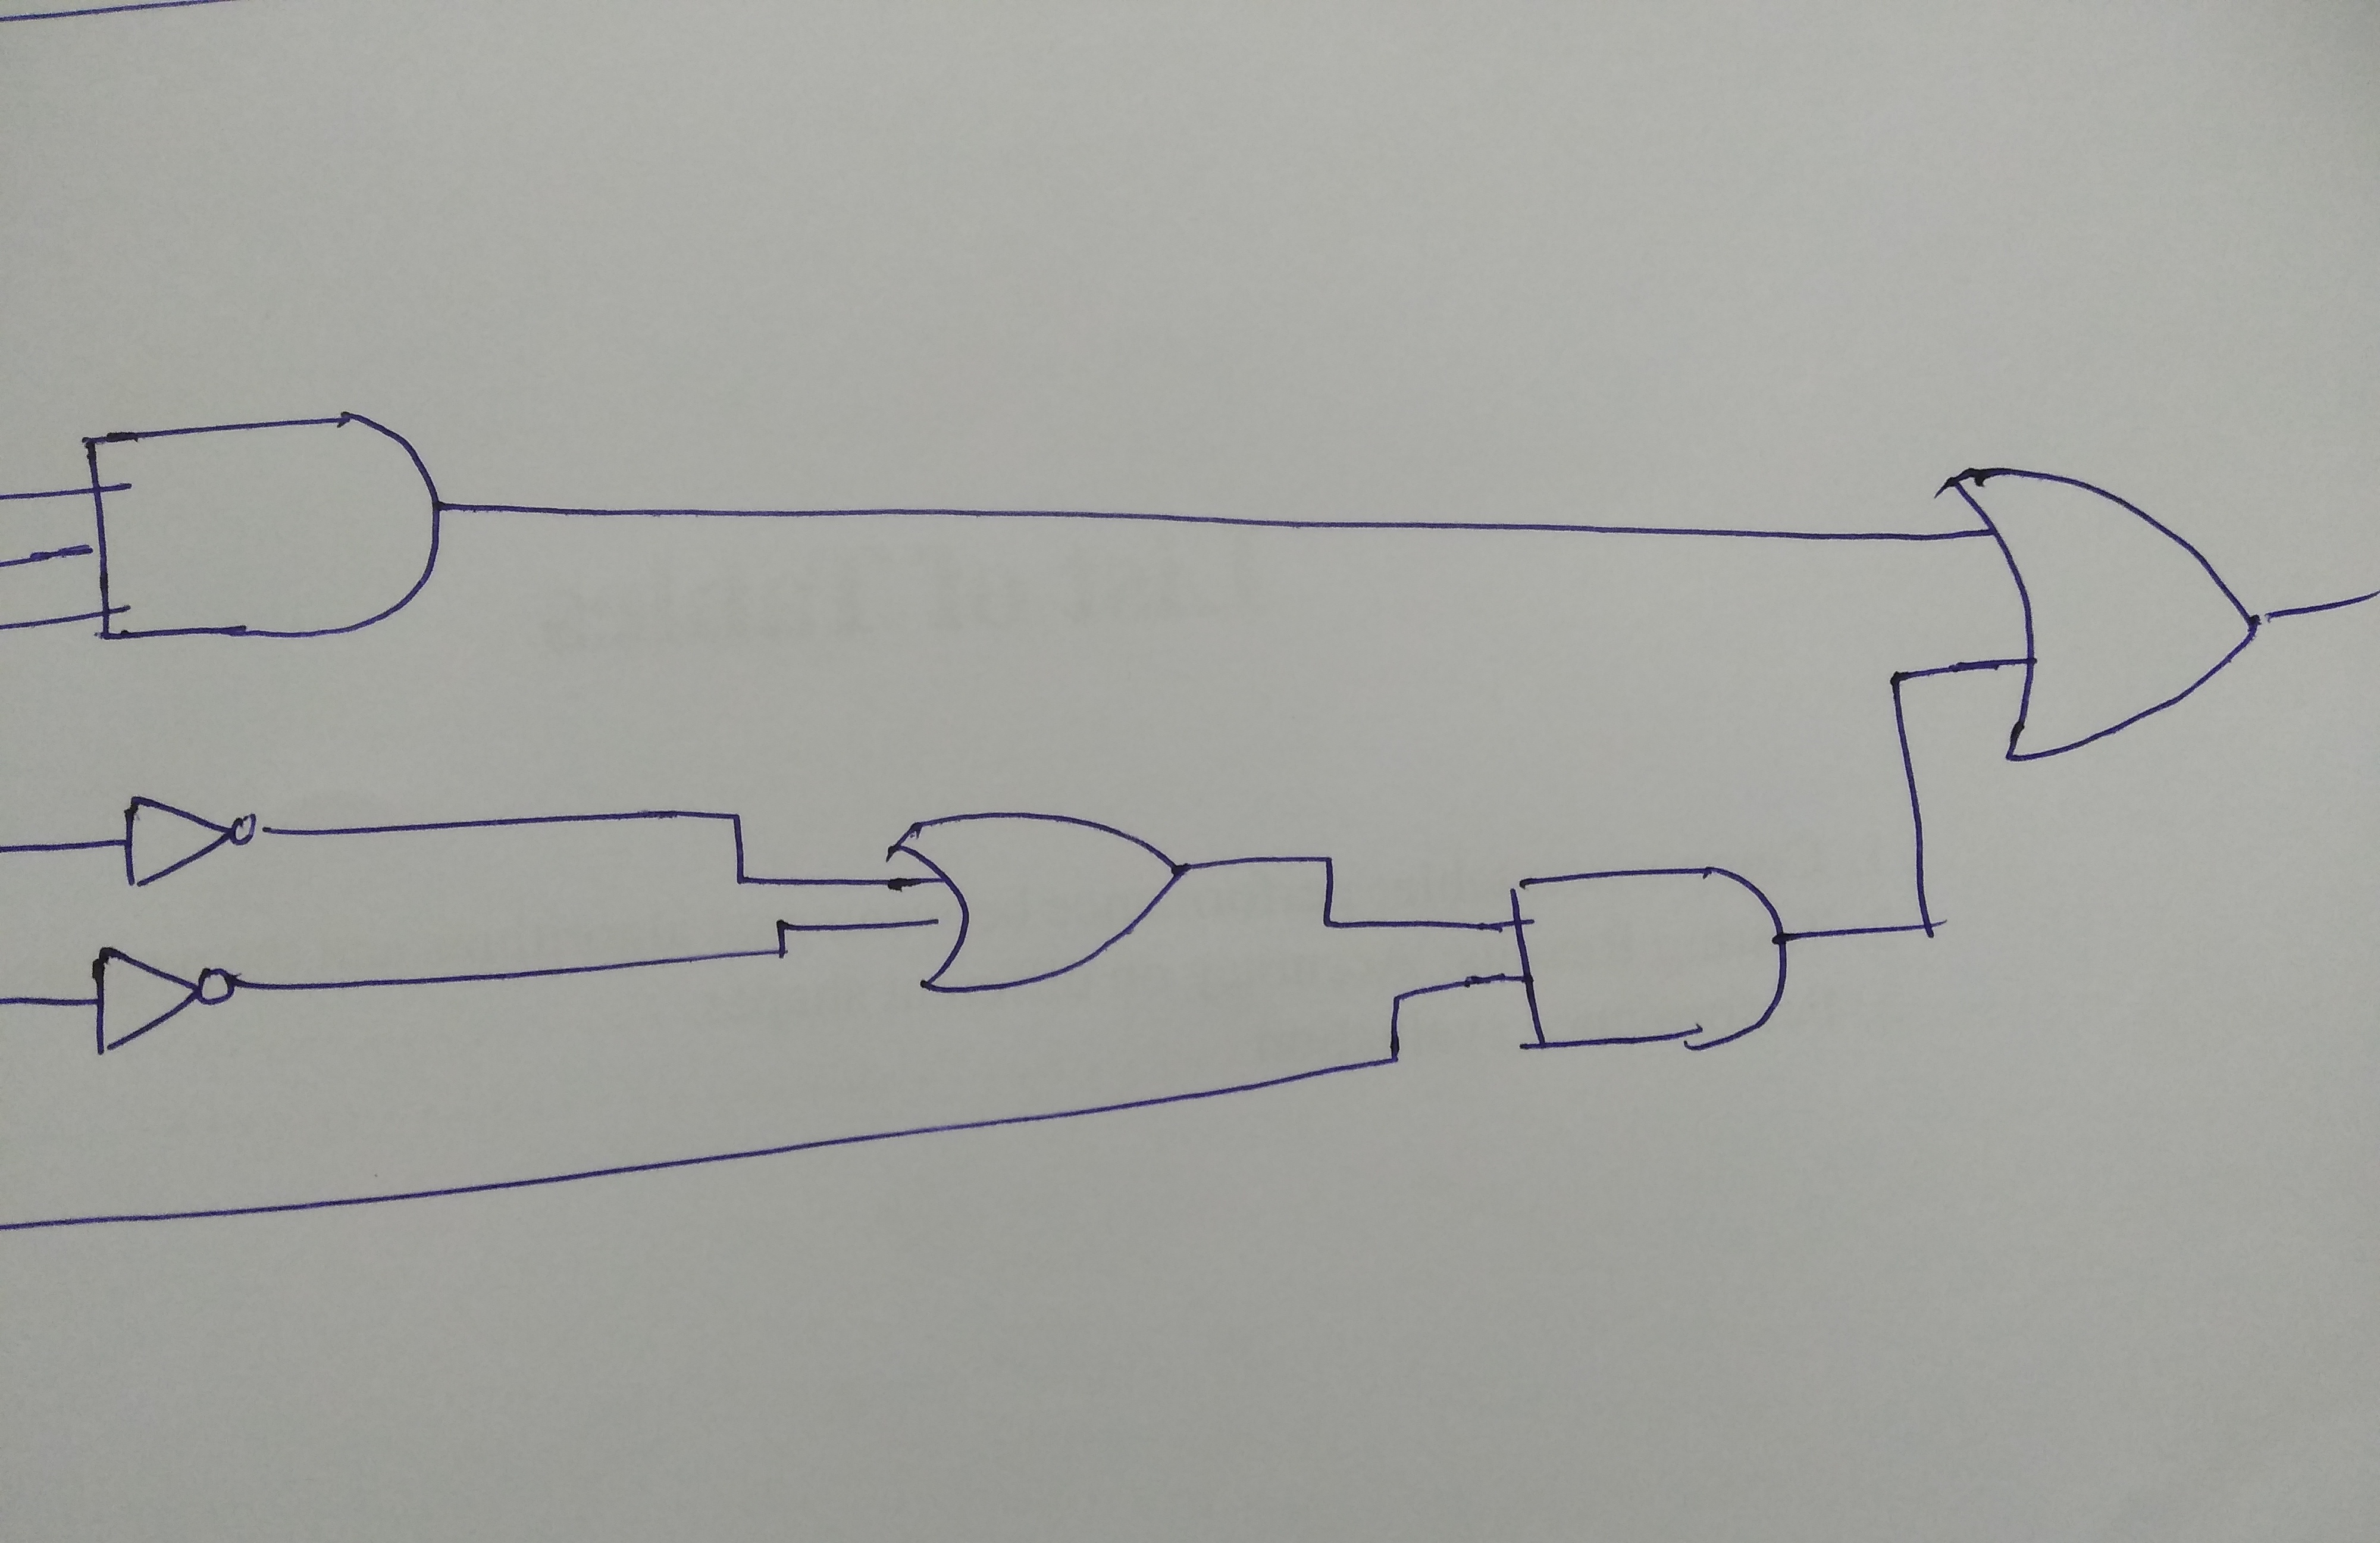and: (62, 384, 515, 686), (1476, 840, 1818, 1083)
not: (83, 929, 271, 1074), (109, 783, 283, 899)
or: (1922, 437, 2297, 771), (869, 790, 1219, 1012)
